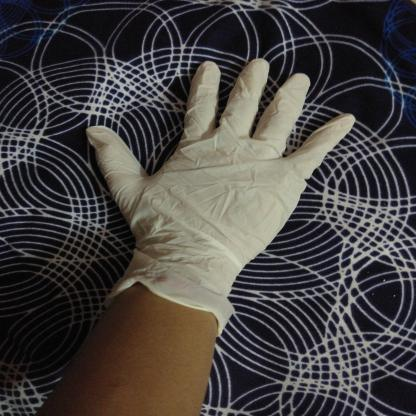gloved_hand: (74, 51, 359, 337)
